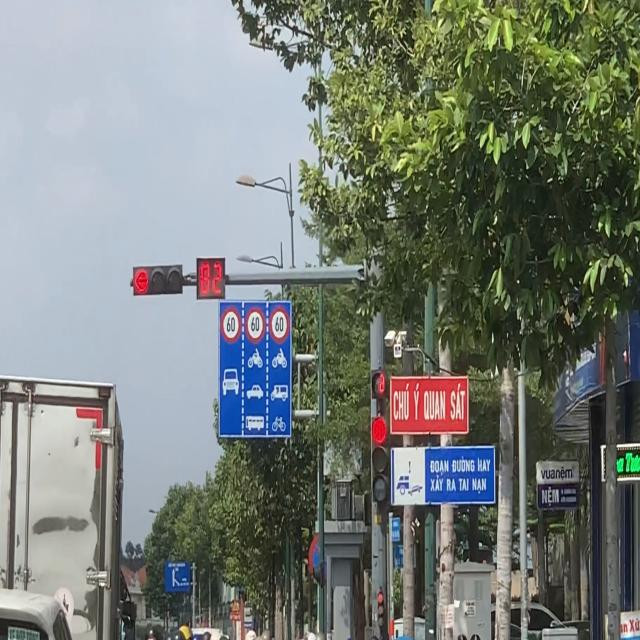Toc do toi da: (270, 306, 290, 344), (245, 307, 266, 343), (221, 307, 241, 344)
